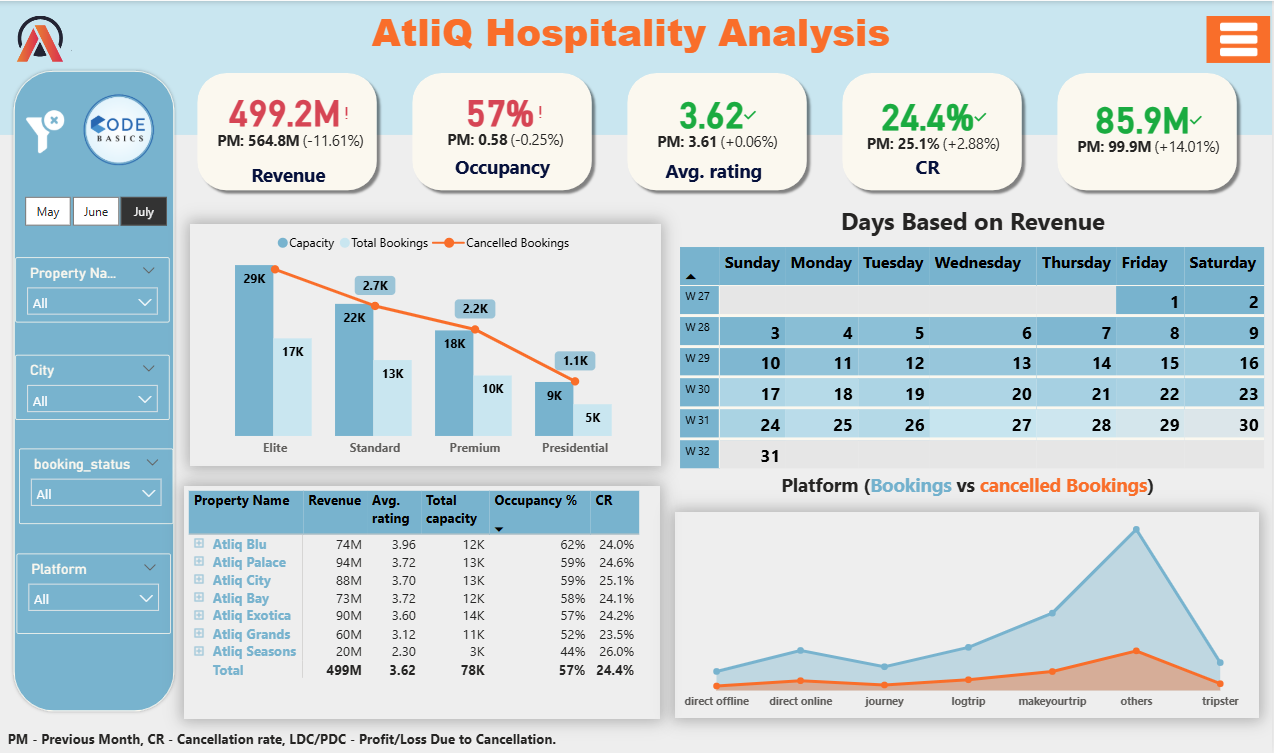

The dashboard page shown, as its layout file describes it:
{"tool":"powerbi","page":{"name":"Monthly","canvas":[1280,760],"ordinal":1},"visuals":[{"type":"group","id":"g1","title":"visuals","box":[0,0,1280,760.7],"z":0},{"type":"shape","title":"blue menu","box":[999.8,0,280.2,759.3],"z":0,"group":"g2"},{"type":"actionButton","title":"Monthly analysis","box":[1019,217.5,241.7,39.8],"z":0,"group":"g3"},{"type":"textbox","box":[0,727.8,1063.8,32.8],"z":0,"group":"g1"},{"type":"shape","title":"organge transprent","box":[0,0,999.8,759.3],"z":1000,"group":"g2"},{"type":"shape","box":[0,0,1280,134.4],"z":1000,"group":"g1"},{"type":"actionButton","title":"Overall analysis","box":[1021,83.3,242.4,39.8],"z":1000,"group":"g3"},{"type":"image","box":[20.1,101.8,52.8,59.1],"z":1000},{"type":"group","id":"g2","title":"Navig. menu","box":[0,0,1280,759.3],"z":2000},{"type":"image","title":"arrow","box":[956.2,3.8,68.2,66.3],"z":2000,"group":"g2"},{"type":"shape","box":[840.8,65.9,194.5,131.9],"z":2000,"group":"g1"},{"type":"actionButton","title":"Monthly analysis","box":[1021,147.7,242.4,39.8],"z":2000,"group":"g3"},{"type":"textbox","title":"page navg","box":[1011.1,11.4,255.6,49.2],"z":3000,"group":"g2"},{"type":"shape","box":[624.8,65.9,194.5,131.9],"z":3000,"group":"g1"},{"type":"shape","box":[192.9,65.9,194.5,131.9],"z":4000,"group":"g1"},{"type":"group","id":"g3","title":"Navg. buttons","box":[1019,83.3,245.2,173.8],"z":4000,"group":"g2"},{"type":"shape","box":[408.9,65.9,194.5,131.9],"z":5000,"group":"g1"},{"type":"shape","box":[11.3,66.6,168.4,650.9],"z":6000,"group":"g1"},{"type":"shape","box":[1056.7,65.9,194.5,131.9],"z":7000,"group":"g1"},{"type":"pivotTable","fields":{"Rows":["dim_date.week no"],"Values":["Sum(dim_date.DAY)"],"Columns":["Week_day.Weekday"]},"box":[679.8,242.5,598.2,245],"z":8000,"group":"g1"},{"type":"slicer","fields":{"Values":["dim_date.mmm yy.Variation.Date Hierarchy.Month"]},"box":[0,189.6,192.9,42.9],"z":9000,"group":"g1"},{"type":"kpi","title":"Revenue","fields":{"Indicator":["resource_measures.revenue"],"TrendLine":["dim_date.date.Variation.Date Hierarchy.Month"],"Goal":["resource_measures.revenue LM"]},"box":[204.4,92.3,176.4,62.6],"z":10000,"group":"g1"},{"type":"kpi","fields":{"Indicator":["resource_measures.Occupancy %"],"TrendLine":["dim_date.date.Variation.Date Hierarchy.Month"],"Goal":["resource_measures.Occupancy % LM"]},"box":[423.7,89,171.5,65.9],"z":11000,"group":"g1"},{"type":"kpi","fields":{"Goal":["resource_measures.cancellation rate LM"],"TrendLine":["dim_date.date.Variation.Date Hierarchy.Month"],"Indicator":["resource_measures.CR"]},"box":[852.3,90.7,174.8,72.5],"z":12000,"group":"g1"},{"type":"kpi","fields":{"Indicator":["resource_measures.LDC"],"Goal":["resource_measures.LDC LM"],"TrendLine":["dim_date.date.Variation.Date Hierarchy.Month"]},"box":[1068.3,89,174.8,80.8],"z":13000,"group":"g1"},{"type":"kpi","title":"Avg. rating ","fields":{"Indicator":["resource_measures.Avg. rating"],"TrendLine":["dim_date.date.Variation.Date Hierarchy.Month"],"Goal":["resource_measures.avg.rating LM"]},"box":[631.4,92.3,183,65.9],"z":14000,"group":"g1"},{"type":"textbox","box":[1083.1,153.3,145.1,46.2],"z":15000,"group":"g1"},{"type":"textbox","box":[860.6,150,145.1,44.5],"z":16000,"group":"g1"},{"type":"textbox","box":[646.2,153.3,145.1,44.5],"z":17000,"group":"g1"},{"type":"textbox","box":[433.6,150,145.1,44.5],"z":18000,"group":"g1"},{"type":"textbox","box":[217.6,156.6,146.7,37.9],"z":19000,"group":"g1"},{"type":"textbox","box":[1.9,0,1278.1,65.6],"z":20000,"group":"g1"},{"type":"image","title":"three dot menu","box":[1213.7,15.1,64.4,47.3],"z":21000,"group":"g1"},{"type":"slicer","fields":{"Values":["dim_hotels.property_name"]},"box":[16.5,257.2,155,65.9],"z":22000,"group":"g1"},{"type":"slicer","fields":{"Values":["dim_hotels.city"]},"box":[16.5,356.1,155,65.9],"z":23000,"group":"g1"},{"type":"slicer","fields":{"Values":["fact_bookings.booking_status"]},"box":[19.8,450.1,155,75.8],"z":24000,"group":"g1"},{"type":"slicer","fields":{"Values":["fact_bookings.booking_platform"]},"box":[18.1,555.6,155,80.8],"z":25000,"group":"g1"},{"type":"image","title":"atliq","box":[0,1.3,77.9,74.1],"z":26000,"group":"g1"},{"type":"image","title":"codebasics","box":[70.4,86.7,100.5,85.5],"z":27000,"group":"g1"},{"type":"lineClusteredColumnComboChart","title":"Capacity vs Bookings vs Cancelled Bookings","fields":{"Category":["dim_rooms.room_class"],"Y":["resource_measures.Total capacity","resource_measures.Total sucessful bookings"],"Y2":["resource_measures.Total cancelled bookings"]},"box":[192.3,223.7,472.5,243.8],"z":28000,"group":"g1"},{"type":"areaChart","fields":{"Category":["fact_bookings.booking_platform"],"Y":["resource_measures.Total bookings","resource_measures.Total cancelled bookings"]},"box":[679.8,514,586.8,207.3],"z":29000,"group":"g1"},{"type":"pivotTable","fields":{"Rows":["dim_hotels.property_name","dim_hotels.city"],"Values":["resource_measures.revenue","resource_measures.Avg. rating","resource_measures.Total capacity","resource_measures.Occupancy %","resource_measures.CR"]},"box":[186.3,488,478.1,234.1],"z":30000,"group":"g1"},{"type":"textbox","box":[679.2,199.5,598.4,49.5],"z":31000,"group":"g1"},{"type":"textbox","box":[757.7,468.7,432.3,45.2],"z":31000}]}

Visuals, with their boxes in screenshot pixels (x1, y1, x2, y2), scaled from the page's 1280x760 canvas onto the 1274x753 screenshot:
"visuals" group: region(0, 0, 1273, 752)
"blue menu" shape: region(995, 0, 1273, 752)
"Monthly analysis" actionButton: region(1014, 215, 1255, 255)
textbox: region(0, 721, 1059, 752)
"organge transprent" shape: region(0, 0, 995, 752)
shape: region(0, 0, 1273, 133)
"Overall analysis" actionButton: region(1016, 83, 1257, 122)
image: region(20, 101, 73, 159)
"Navig. menu" group: region(0, 0, 1273, 752)
"arrow" image: region(952, 4, 1020, 69)
shape: region(837, 65, 1030, 196)
"Monthly analysis" actionButton: region(1016, 146, 1257, 186)
"page navg" textbox: region(1006, 11, 1261, 60)
shape: region(622, 65, 815, 196)
shape: region(192, 65, 386, 196)
"Navg. buttons" group: region(1014, 83, 1258, 255)
shape: region(407, 65, 601, 196)
shape: region(11, 66, 179, 711)
shape: region(1052, 65, 1245, 196)
pivotTable - dim_date.week no x Sum(dim_date.DAY): region(677, 240, 1272, 483)
slicer - dim_date.mmm yy.Variation.Date Hierarchy.Month: region(0, 188, 192, 230)
"Revenue" kpi: region(203, 91, 379, 153)
kpi - resource_measures.Occupancy % x dim_date.date.Variation.Date Hierarchy.Month: region(422, 88, 592, 153)
kpi - resource_measures.cancellation rate LM x dim_date.date.Variation.Date Hierarchy.Month: region(848, 90, 1022, 162)
kpi - resource_measures.LDC x resource_measures.LDC LM: region(1063, 88, 1237, 168)
"Avg. rating " kpi: region(628, 91, 811, 157)
textbox: region(1078, 152, 1222, 198)
textbox: region(857, 149, 1001, 193)
textbox: region(643, 152, 788, 196)
textbox: region(432, 149, 576, 193)
textbox: region(217, 155, 363, 193)
textbox: region(2, 0, 1273, 65)
"three dot menu" image: region(1208, 15, 1272, 62)
slicer - dim_hotels.property_name: region(16, 255, 171, 320)
slicer - dim_hotels.city: region(16, 353, 171, 418)
slicer - fact_bookings.booking_status: region(20, 446, 174, 521)
slicer - fact_bookings.booking_platform: region(18, 550, 172, 631)
"atliq" image: region(0, 1, 78, 75)
"codebasics" image: region(70, 86, 170, 171)
"Capacity vs Bookings vs Cancelled Bookings" lineClusteredColumnComboChart: region(191, 222, 662, 463)
areaChart - fact_bookings.booking_platform x resource_measures.Total bookings: region(677, 509, 1261, 715)
pivotTable - dim_hotels.property_name x dim_hotels.city: region(185, 484, 661, 715)
textbox: region(676, 198, 1272, 247)
textbox: region(754, 464, 1184, 509)
